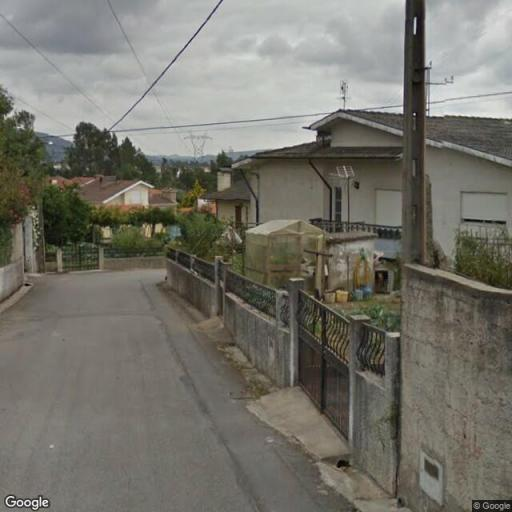wt_5: (183, 128, 214, 161)
